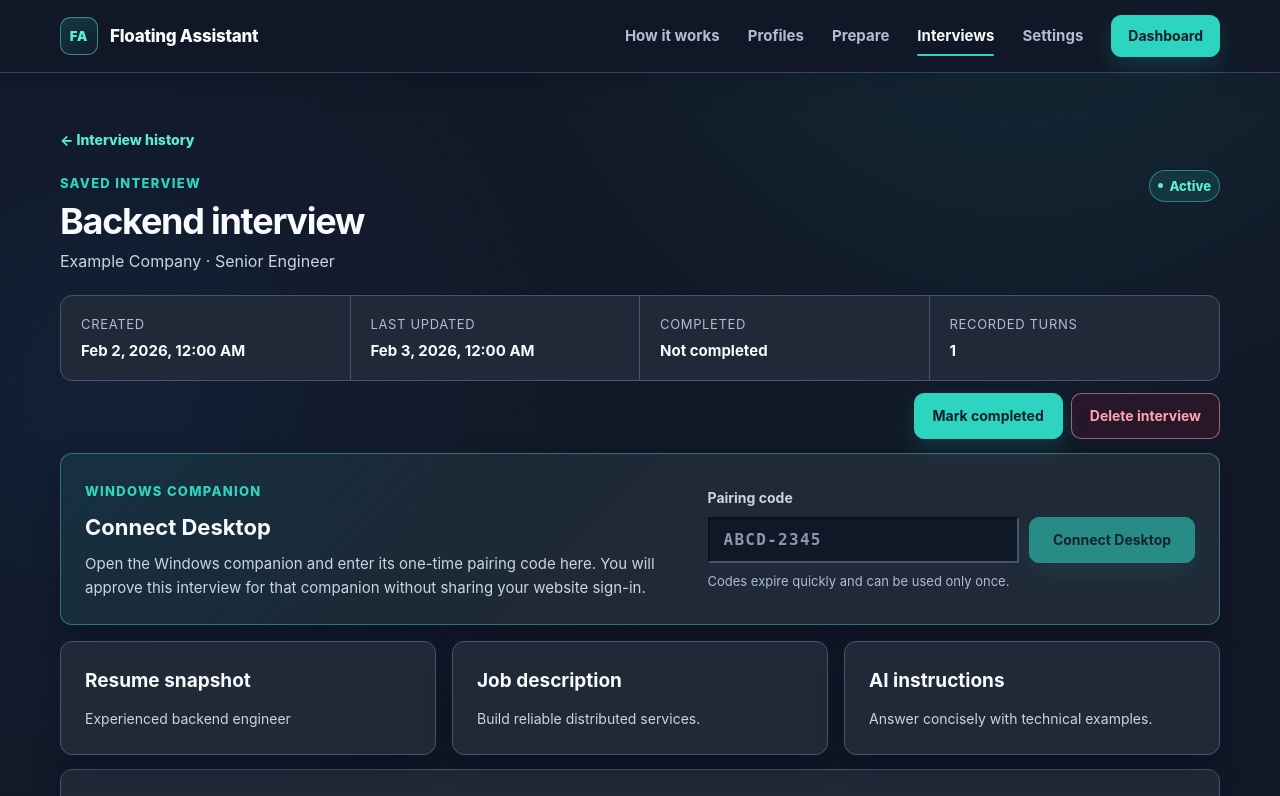
Test: website routing and authentication › completes an active interview once and refreshes its displayed status
The width and height of the screenshot is (1280, 796).
What coordinates should you click on to do the following:
click the button "Mark completed"
I would click on:
 (988, 416)
Its box is [914, 393, 1063, 439].
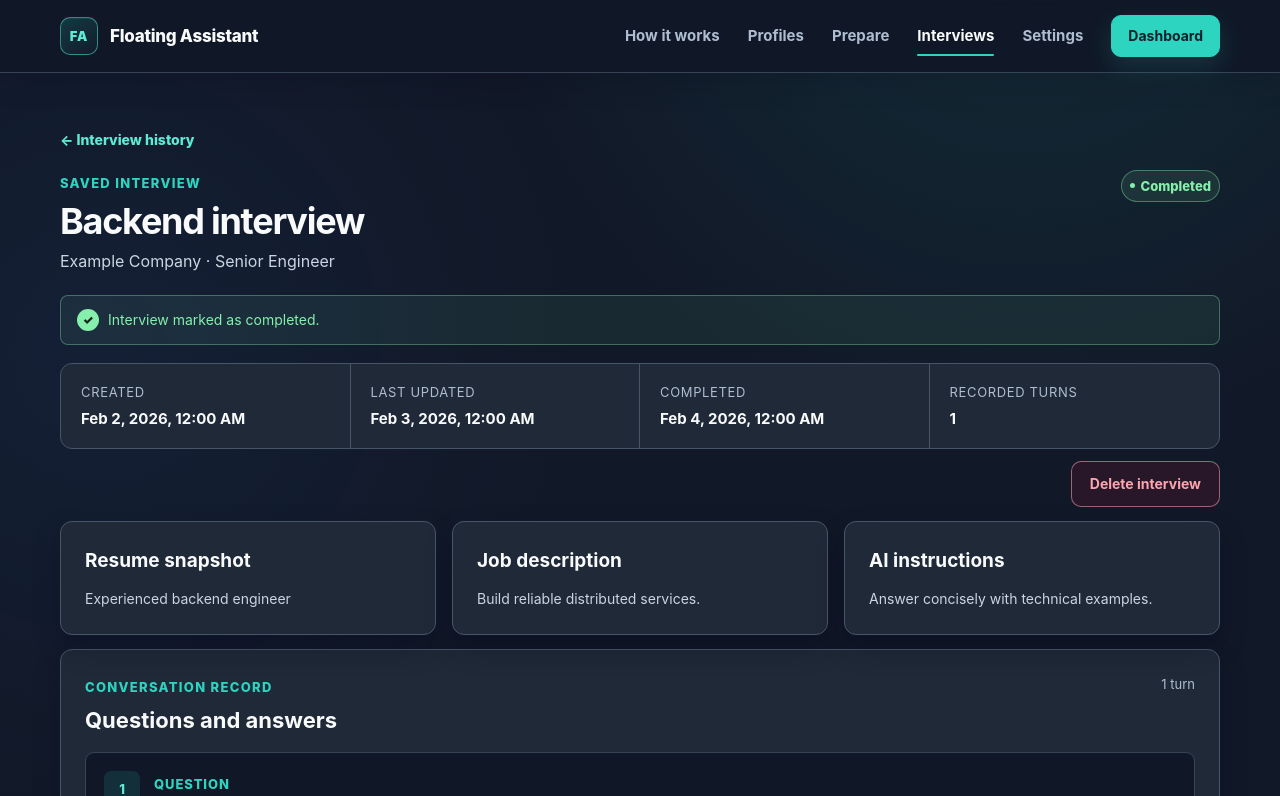
Now the text "Interview marked as completed." is shown, box [108, 311, 320, 328]
Now the button "Mark completed" is gone
